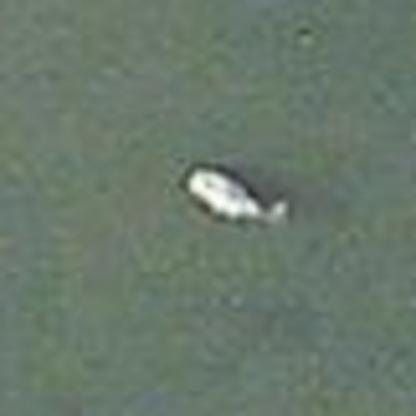ship: (168, 160, 291, 232)
